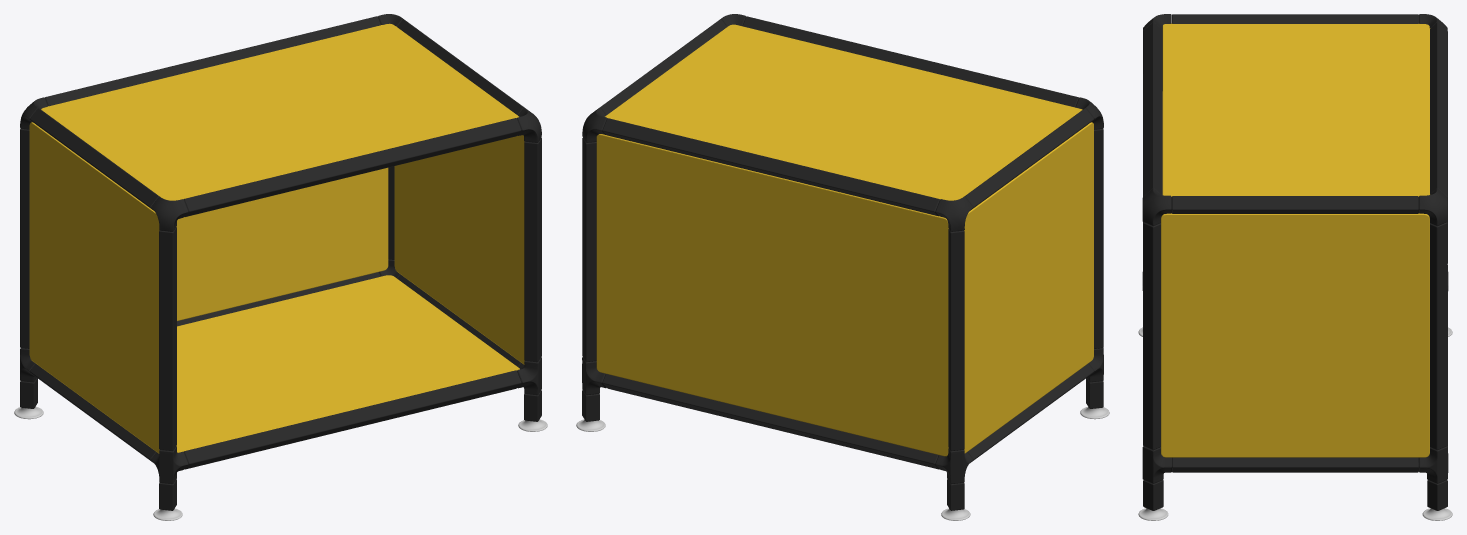
3 renders of one model, left to right at view 1: azimuth 30°, elevation 25°; view 2: azimuth 150°, elevation 25°; view 3: azimuth 270°, elevation 25°, orthographic. The views are drawn at different scales.
Parts seen in each view (by area): view 1: 523x329x329; view 2: 523x329x329; view 3: 523x329x329.
Part boxes in pixels (x1,y1,x2,y2): 523x329x329: (14, 14, 547, 520); 523x329x329: (576, 14, 1109, 520); 523x329x329: (1138, 14, 1452, 520).
Bounding box in the file's own units: 0.6129 × 0.4683 × 0.4183.
